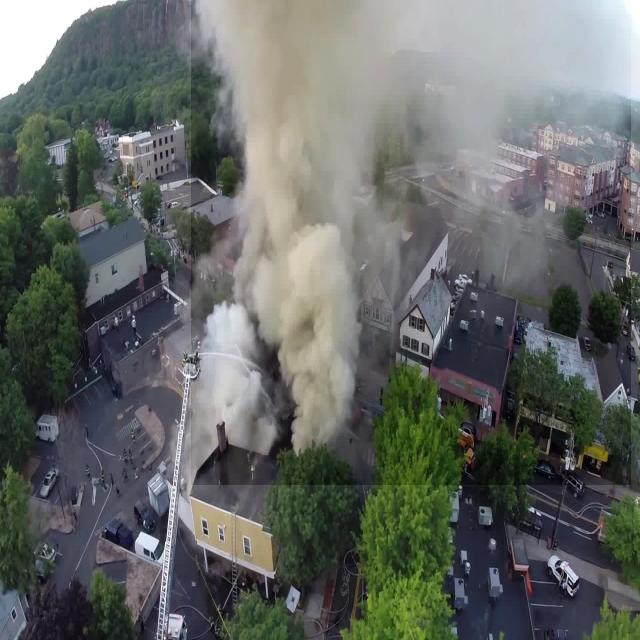Smoke: (191, 0, 631, 485)
